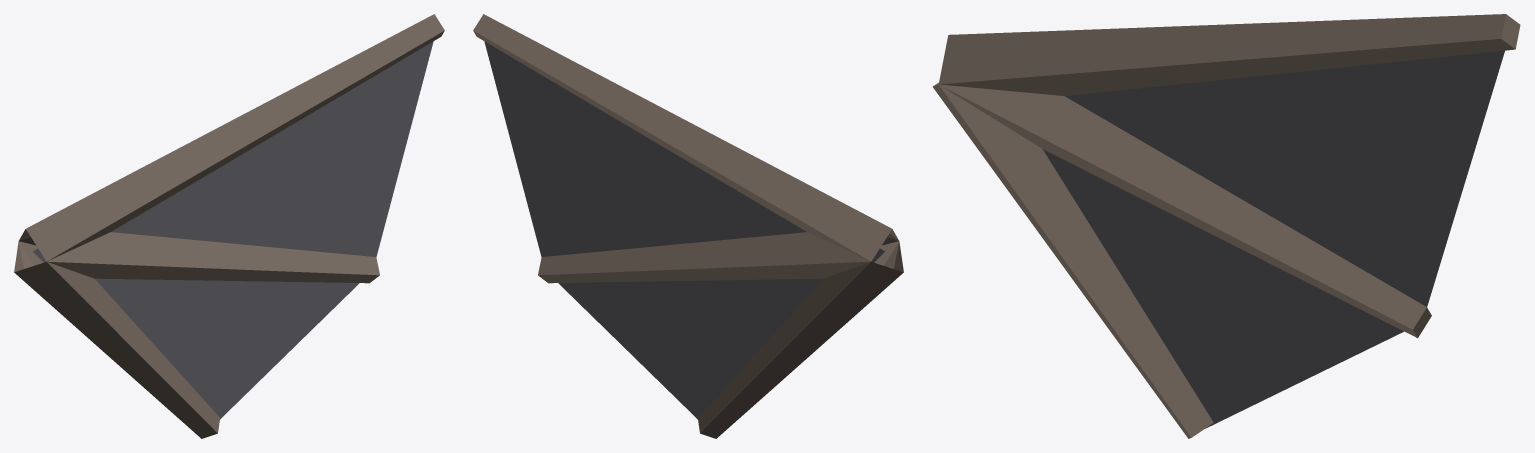
The picture shows the model from 3 angles, left to right: view 1: azimuth 30°, elevation 25°; view 2: azimuth 150°, elevation 25°; view 3: azimuth 330°, elevation 25°; orthographic projection. The views are drawn at different scales.
Parts seen in each view (by area): view 1: model; view 2: model; view 3: model.
Boxes of the visible parts, left/top/right/bottom form: model: left=14, top=14, right=444, bottom=438; model: left=473, top=14, right=903, bottom=438; model: left=933, top=14, right=1520, bottom=438.
Bounding box in the file's own units: 0.5272 × 0.4341 × 0.06.
